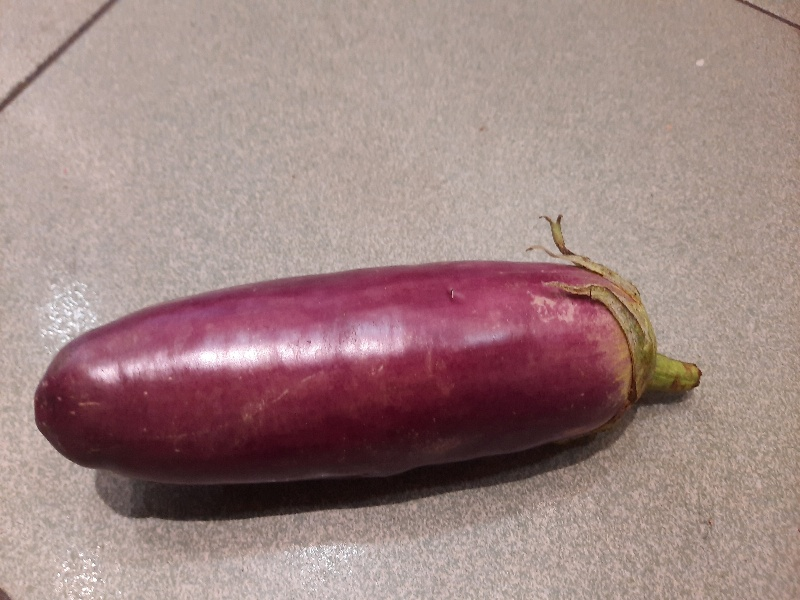vege: (25, 240, 716, 502)
